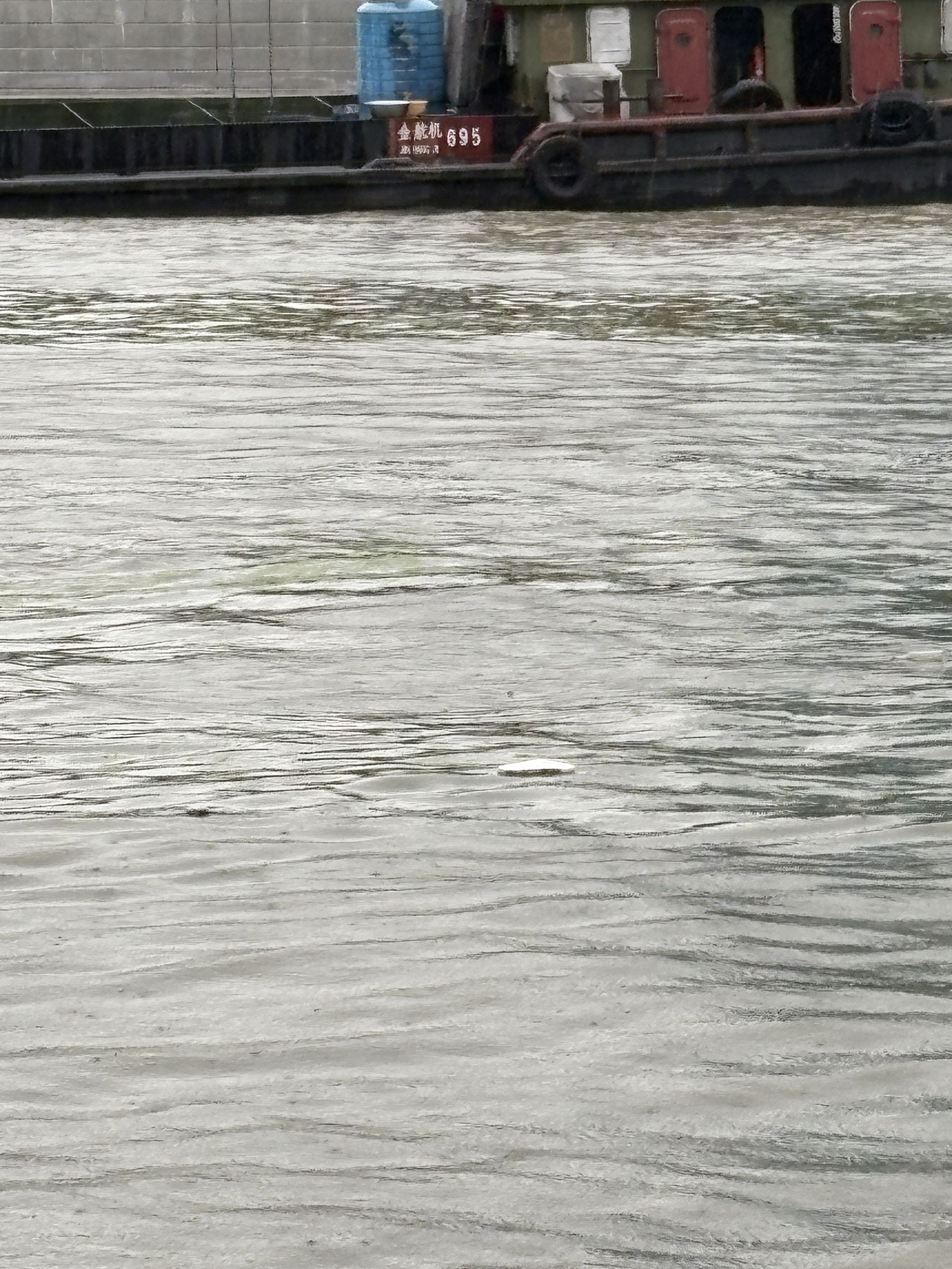Plastic wastes: (565, 509, 586, 607), (598, 990, 618, 1024)
